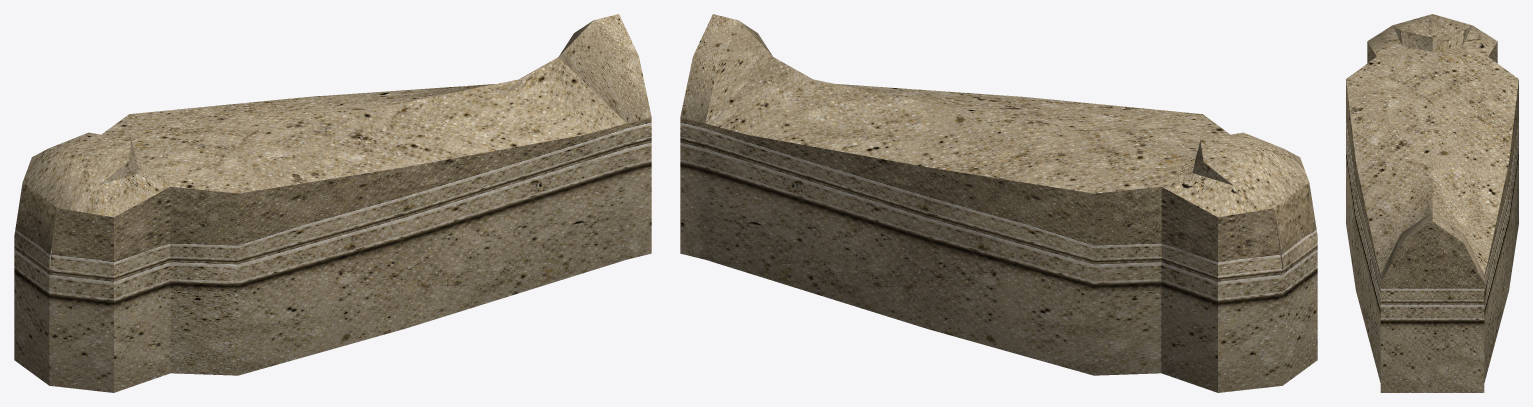
The model's file is mm9_deco_sarcophagusns.glb.
3 views of the same model, side by side, from view 1: azimuth 30°, elevation 25°; view 2: azimuth 150°, elevation 25°; view 3: azimuth 270°, elevation 25° (orthographic). The views are drawn at different scales.
Visible parts, largest first — view 1: Sarcophagusns; view 2: Sarcophagusns; view 3: Sarcophagusns.
Boxes of the visible parts, <box> form: Sarcophagusns: <box>14,14,651,392</box>; Sarcophagusns: <box>680,14,1317,392</box>; Sarcophagusns: <box>1346,14,1518,392</box>.
Size of the model in its own units: 2.37 by 0.8324 by 0.7602.
1 material, 1 textured.
